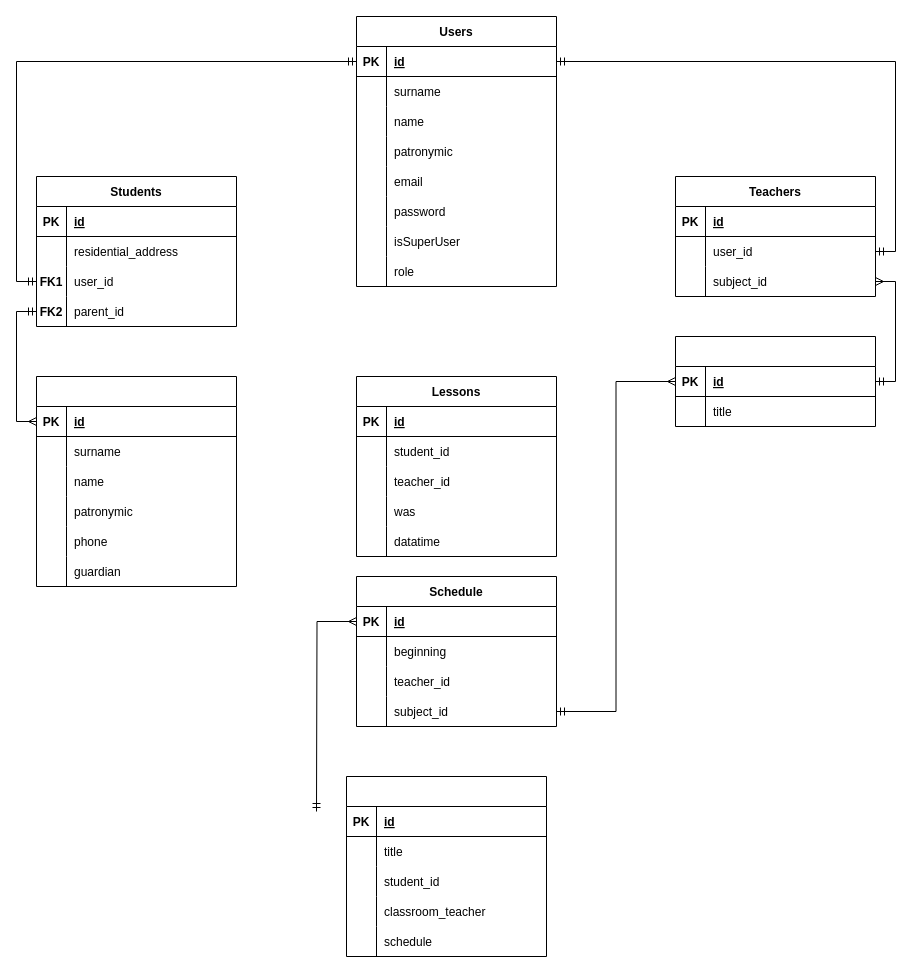
Some shapes in this 912 by 973 pixel diagram are drawn without their labels. The shapes that lost their labels are listed below. From the top down, each one's box as (x1, y1, x2, y2) in pixels, then its label:
(674, 336, 876, 426): Subjects
(36, 376, 236, 586): Parents
(346, 776, 546, 956): Groups
